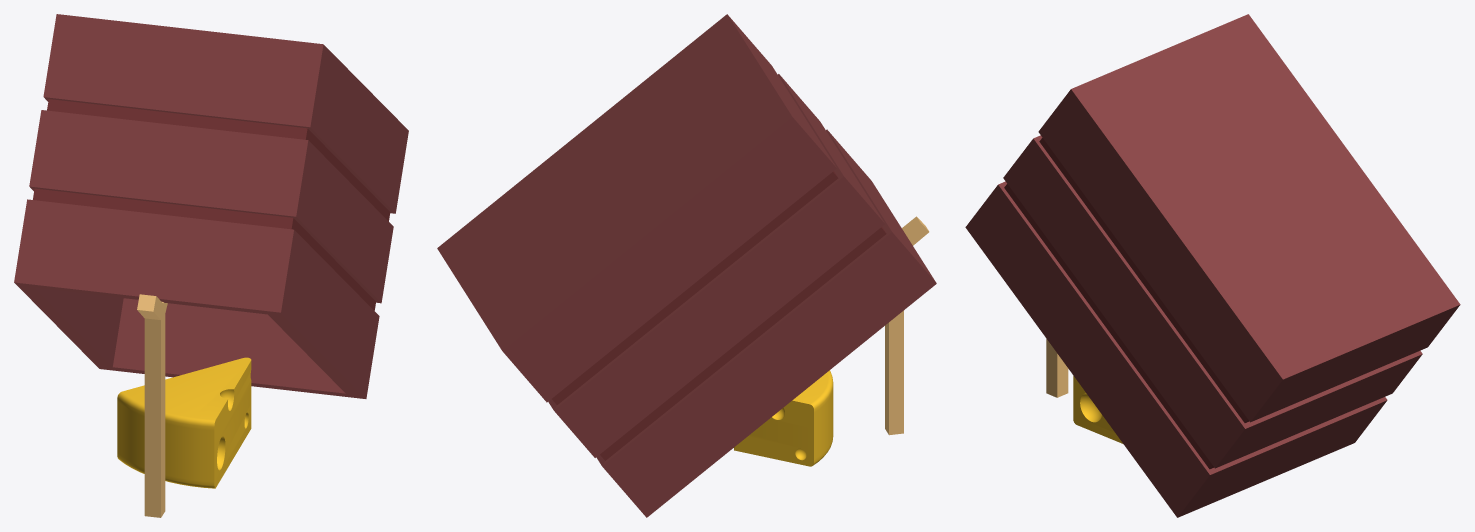
File: mouse_trap.glb
3 views of the same model, side by side, from view 1: azimuth 30°, elevation 25°; view 2: azimuth 150°, elevation 25°; view 3: azimuth 270°, elevation 25° (orthographic). The views are drawn at different scales.
Visible parts, largest first — view 1: Cube.1012, Circle.2605, Cube.240; view 2: Cube.1012, Circle.2605, Cube.240; view 3: Cube.1012, Circle.2605, Cube.240.
Boxes of the visible parts, left/top/right/bottom form: Cube.1012: left=14, top=14, right=408, bottom=398; Circle.2605: left=117, top=357, right=251, bottom=488; Cube.240: left=137, top=294, right=167, bottom=517; Cube.1012: left=437, top=14, right=936, bottom=517; Circle.2605: left=734, top=370, right=833, bottom=466; Cube.240: left=885, top=216, right=929, bottom=435; Cube.1012: left=965, top=14, right=1460, bottom=517; Circle.2605: left=1073, top=376, right=1122, bottom=443; Cube.240: left=1046, top=339, right=1068, bottom=397.
Bounding box in the file's own units: 2.55 × 2.18 × 2.55.
1 material, 1 textured.
